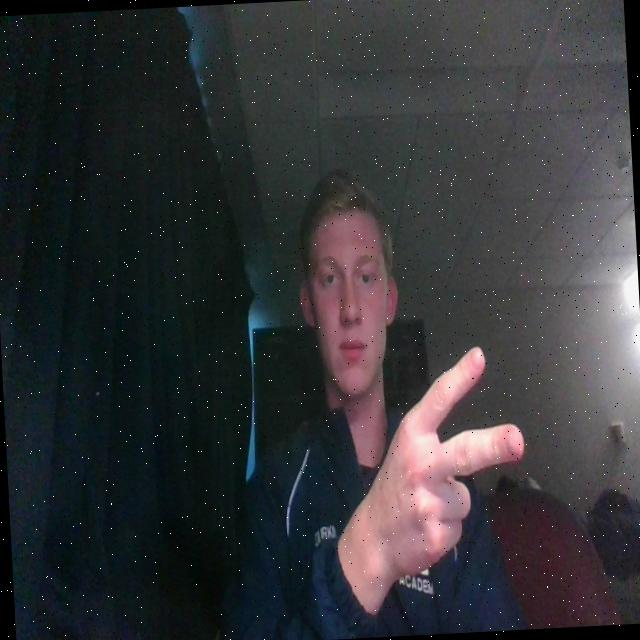scissors: (330, 338, 536, 582)
